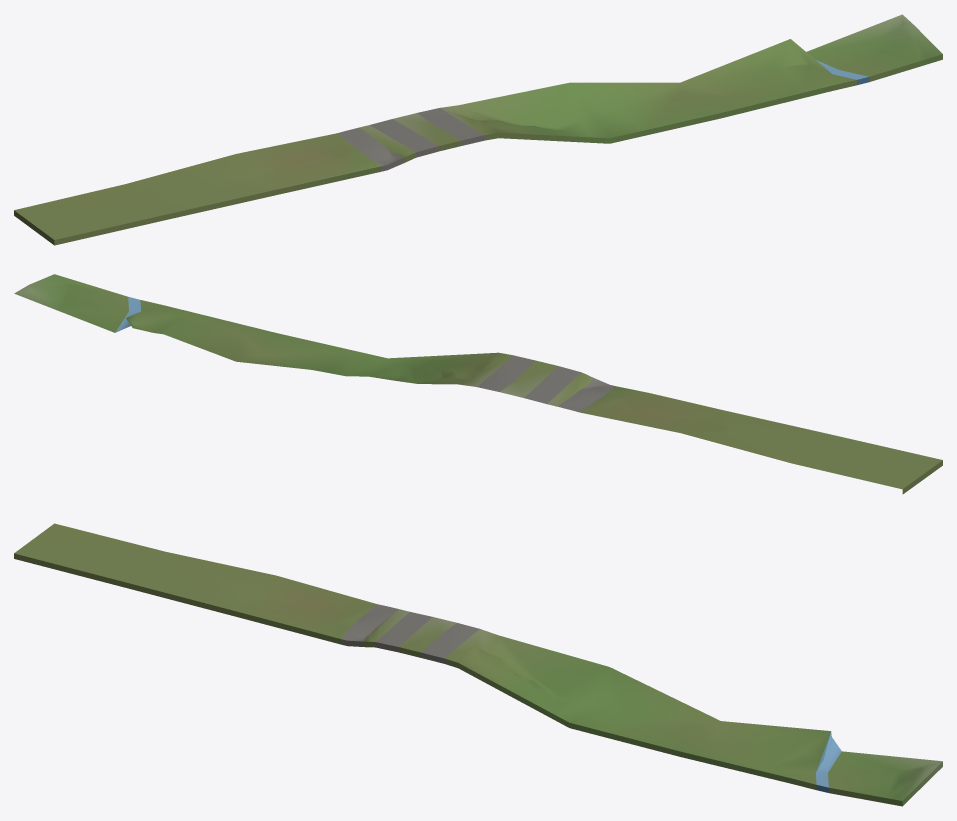
3 views of the same model, one above another, from view 1: azimuth 30°, elevation 25°; view 2: azimuth 150°, elevation 25°; view 3: azimuth 330°, elevation 25° (orthographic).
Visible parts, largest first — view 1: D-2--6.L0:utd:matte; view 2: D-2--6.L0:utd:matte; view 3: D-2--6.L0:utd:matte, D-2--6.L0:utd:water.
Boxes of the visible parts, x1,y1,x2,y2 form: D-2--6.L0:utd:matte: (14, 14, 942, 245); D-2--6.L0:utd:matte: (14, 274, 942, 494); D-2--6.L0:utd:matte: (14, 523, 942, 806); D-2--6.L0:utd:water: (816, 731, 841, 787).
Size of the model in its own units: 256 by 11.95 by 20.2.
